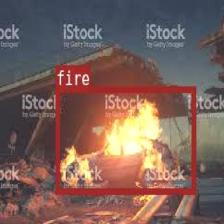fire: (55, 86, 194, 193)
